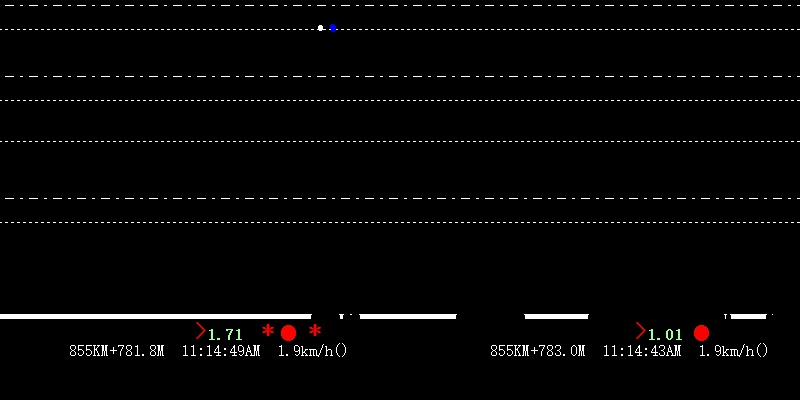circle: (276, 322, 299, 344), (691, 321, 711, 344)
face_1: (329, 20, 338, 39), (314, 21, 326, 34)
star: (258, 319, 275, 338), (307, 320, 322, 340)
